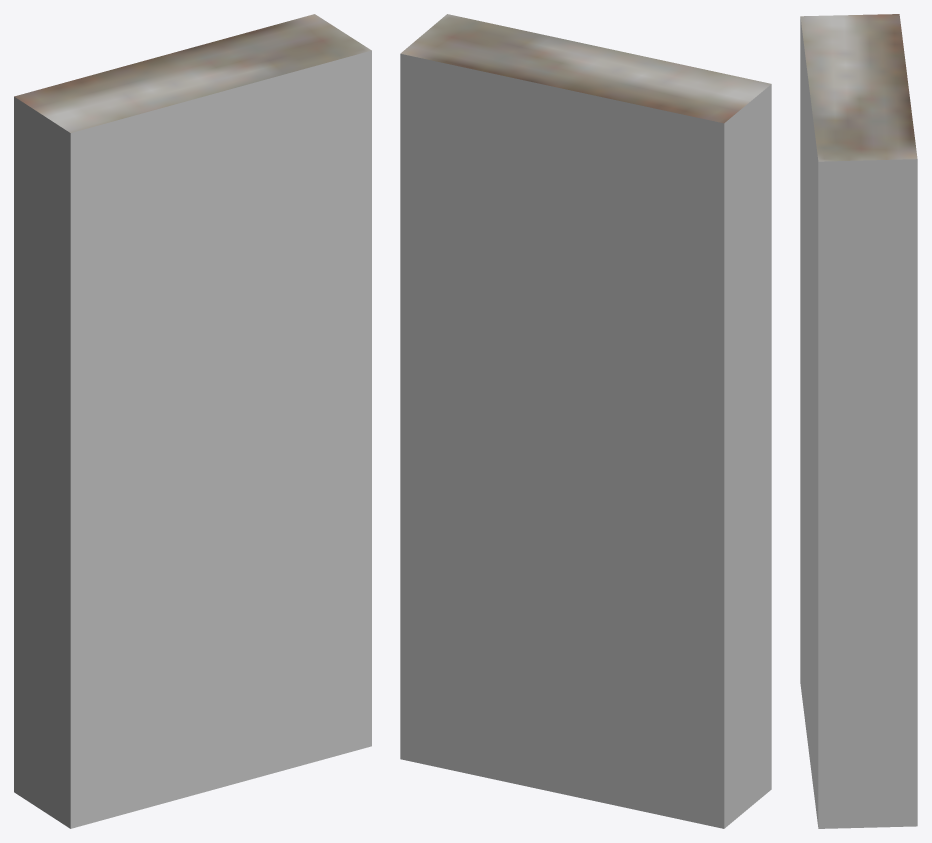
The model's file is DEBW_0010007THWM.gltf.
3 renders of one model, left to right at view 1: azimuth 30°, elevation 25°; view 2: azimuth 150°, elevation 25°; view 3: azimuth 270°, elevation 25°, orthographic. The views are drawn at different scales.
Parts seen in each view (by area): view 1: Z_UP; view 2: Z_UP; view 3: Z_UP.
Boxes of the visible parts, box(x1,y1,x2,y2) form: Z_UP: box(14, 14, 371, 828); Z_UP: box(400, 14, 771, 828); Z_UP: box(800, 14, 917, 828).
Bounding box in the file's own units: 5.25 × 11.06 × 1.76.
Materials: 2 (1 with a texture image).
